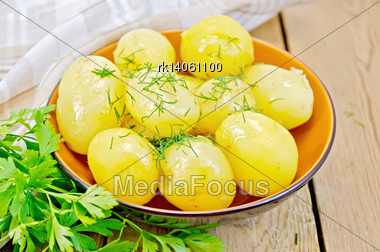boiled potatoes: (73, 25, 302, 209)
